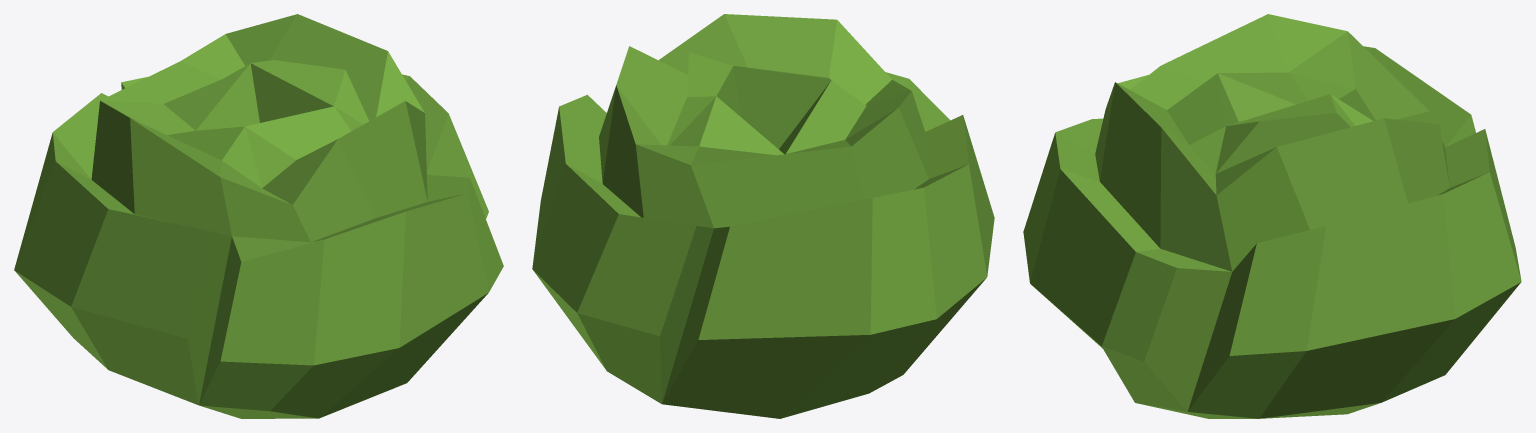
The model's file is nature_plant-salad.fbx.
3 views of the same model, side by side, from view 1: azimuth 30°, elevation 25°; view 2: azimuth 150°, elevation 25°; view 3: azimuth 270°, elevation 25° (orthographic). The views are drawn at different scales.
Visible parts, largest first — view 1: nature_plant_salad; view 2: nature_plant_salad; view 3: nature_plant_salad.
Part boxes in pixels (x1,y1,x2,y2): nature_plant_salad: (14, 14, 503, 418); nature_plant_salad: (532, 14, 994, 418); nature_plant_salad: (1023, 14, 1521, 418).
Bounding box in the file's own units: 200 × 139 × 199.
